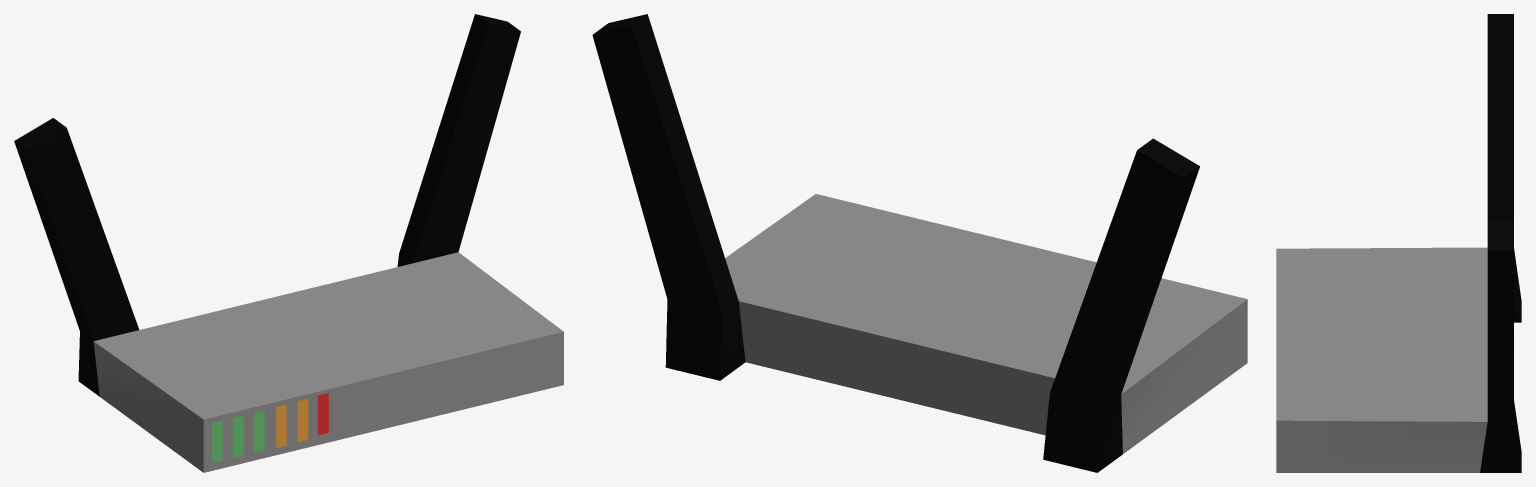
File: wifi.fbx
The picture shows the model from 3 angles, left to right: view 1: azimuth 30°, elevation 25°; view 2: azimuth 150°, elevation 25°; view 3: azimuth 270°, elevation 25°; orthographic projection. The views are drawn at different scales.
Visible parts, largest first — view 1: pCube1; view 2: pCube1; view 3: pCube1.
Part boxes in pixels (bbox=[...]): pCube1: bbox=[14, 14, 563, 472]; pCube1: bbox=[592, 14, 1247, 472]; pCube1: bbox=[1276, 14, 1521, 472].
Bounding box in the file's own units: 6.85 × 3.64 × 3.01.
Materials: 1 (1 with a texture image).
